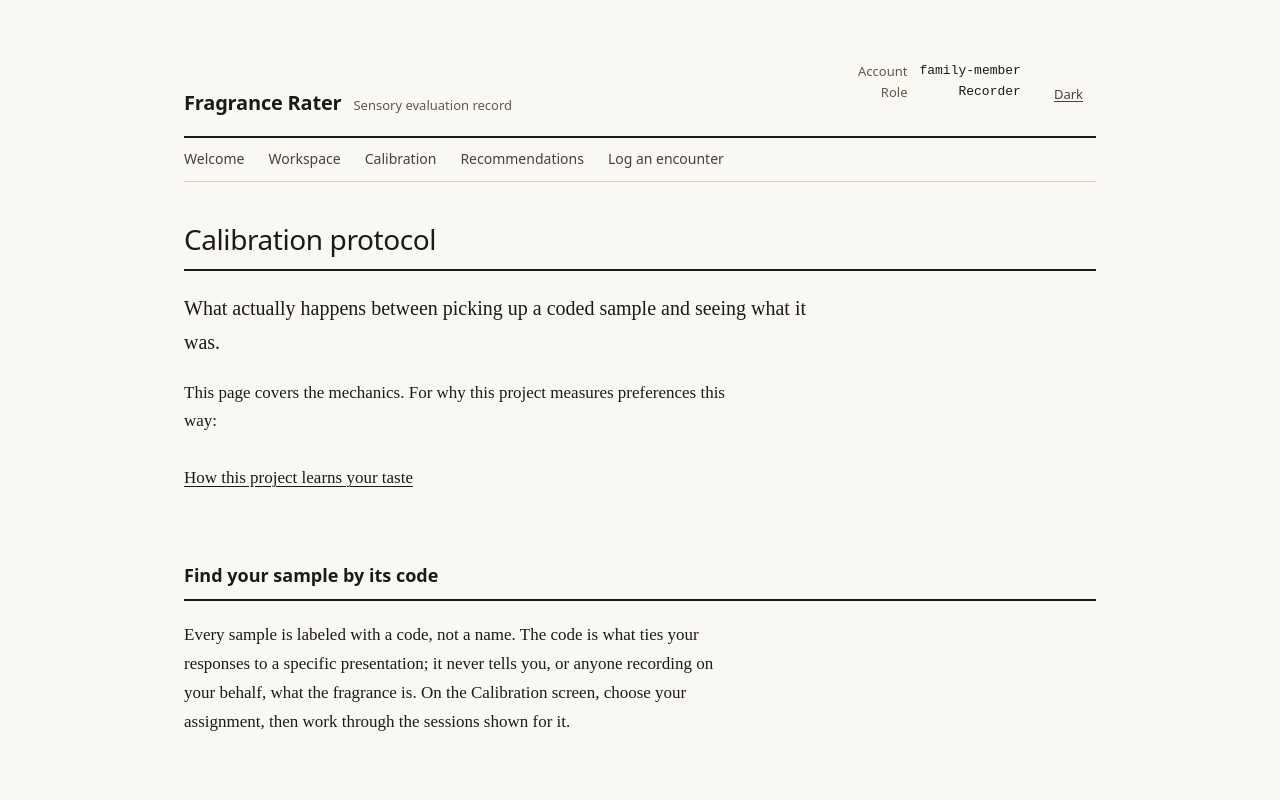
Scenario: Calibration protocol page › cross-links to the About page for the rationale behind the protocol
Expected: the heading "Calibration protocol" is shown, [184,222,436,257]
Click the link "How this project learns your taste". click: (298, 477)
box: [184,468,413,487]
(page scrolled)
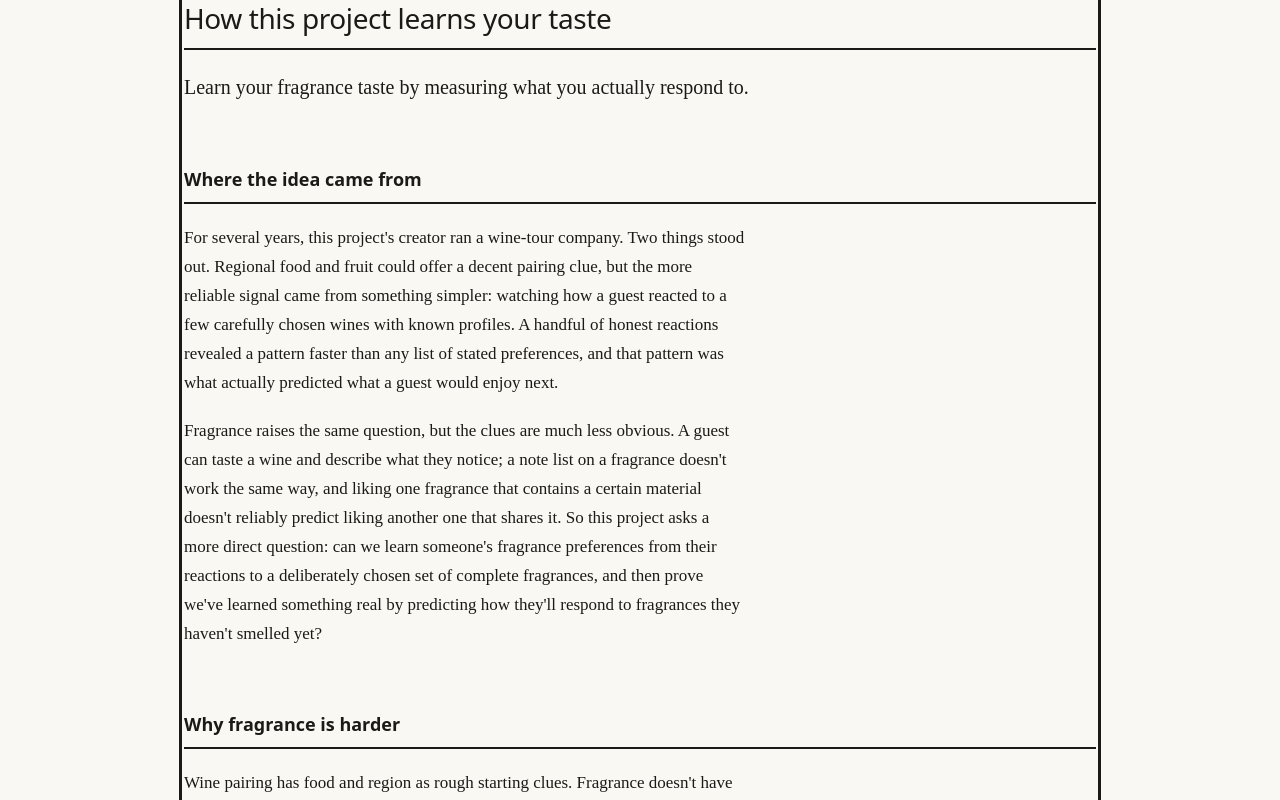
Now the heading "How this project learns your taste" is shown, box [184,1,611,36]
